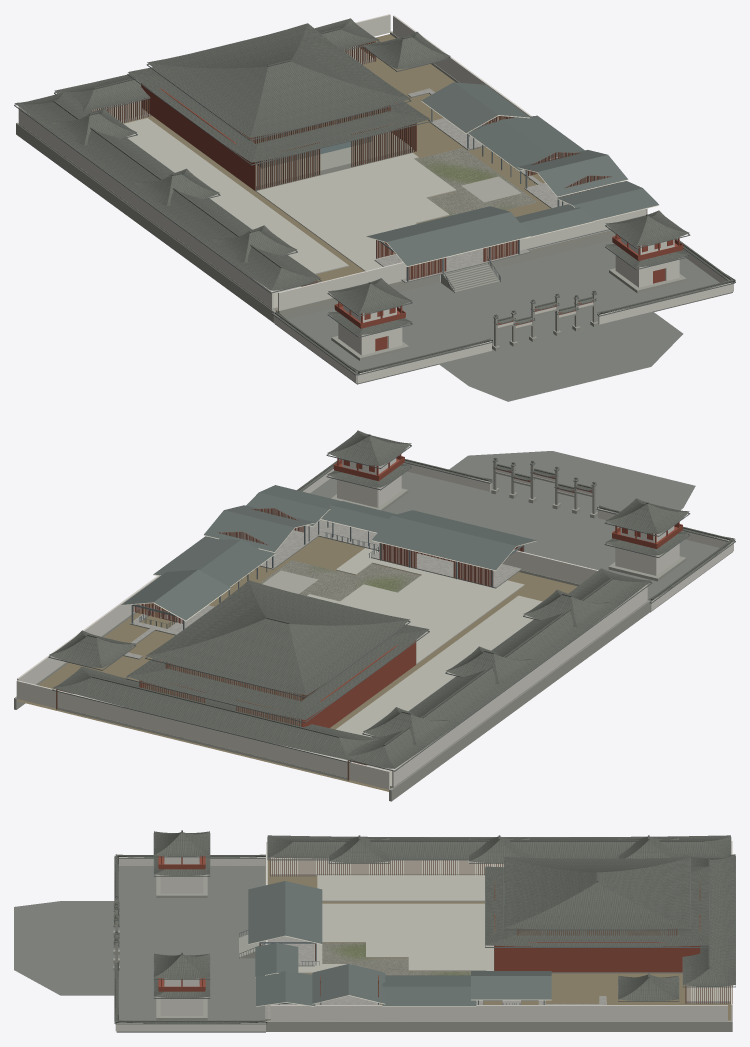
File: shangqing-court-route.glb
3 views of the same model, one above another, from view 1: azimuth 30°, elevation 25°; view 2: azimuth 150°, elevation 25°; view 3: azimuth 270°, elevation 25° (orthographic). The views are drawn at different scales.
Visible parts, largest first — view 1: Existing context - 1990s front court paving, Existing context - main hipped roof, Context court paving - exposed plan area removed, Existing context - south apron, Existing context - west exhibition gallery roof, Unmodelled archaeology and site datum, Existing context - main lower eaves, Existing context - west marking court, Existing context - gallery accent roof, Southern entrance pavilion roof, Existing context - outer white gallery wall, Existing context - south white gallery wall (+28 smaller); view 2: Existing context - main hipped roof, Existing context - 1990s front court paving, Existing context - west exhibition gallery roof, Existing context - north return gallery roof, Context court paving - exposed plan area removed, Unmodelled archaeology and site datum, Existing context - south apron, Existing context - main lower eaves, Existing context - north white gallery wall, Existing context - gallery accent roof, Existing context - west marking court, Existing context - outer white gallery wall (+29 smaller); view 3: Existing context - 1990s front court paving, Existing context - main hipped roof, Context court paving - exposed plan area removed, Existing context - south apron, Existing context - outer white gallery wall, Existing context - west exhibition gallery roof, Existing context - main lower eaves, Existing context - outer retaining wall, Existing context - main hall red side cladding, Existing context - gallery accent roof, Existing context - north return gallery roof, Existing context - west marking court (+32 smaller).
Part boxes in pixels (box(x1,y1,x2,y2)): Existing context - 1990s front court paving: box(275, 240, 732, 384); Existing context - main hipped roof: box(147, 23, 410, 137); Context court paving - exposed plan area removed: box(255, 153, 456, 271); Existing context - south apron: box(439, 311, 683, 401); Existing context - west exhibition gallery roof: box(14, 90, 320, 290); Unmodelled archaeology and site datum: box(123, 34, 612, 313); Existing context - main lower eaves: box(128, 67, 430, 162); Existing context - west marking court: box(123, 118, 348, 274); Existing context - gallery accent roof: box(50, 31, 450, 262); Southern entrance pavilion roof: box(366, 206, 530, 266); Existing context - outer white gallery wall: box(19, 15, 647, 309); Existing context - south white gallery wall: box(278, 209, 645, 310); Existing context - main hipped roof: box(146, 580, 409, 695); Existing context - 1990s front court paving: box(310, 471, 732, 612); Existing context - west exhibition gallery roof: box(344, 568, 651, 768); Existing context - north return gallery roof: box(52, 666, 378, 760); Context court paving - exposed plan area removed: box(307, 548, 524, 664); Unmodelled archaeology and site datum: box(17, 536, 577, 791); Existing context - south apron: box(449, 451, 695, 517); Existing context - main lower eaves: box(126, 624, 429, 720); Existing context - north white gallery wall: box(16, 680, 389, 789); Existing context - gallery accent roof: box(49, 589, 610, 744); Existing context - west marking court: box(336, 595, 542, 737); Existing context - outer white gallery wall: box(17, 575, 647, 787); Existing context - 1990s front court paving: box(116, 866, 265, 1032); Existing context - main hipped roof: box(504, 857, 690, 929); Context court paving - exposed plan area removed: box(298, 903, 493, 973); Existing context - south apron: box(14, 901, 115, 995); Existing context - outer white gallery wall: box(270, 1005, 727, 1021); Existing context - west exhibition gallery roof: box(267, 835, 730, 859); Existing context - main lower eaves: box(485, 866, 709, 946); Existing context - outer retaining wall: box(266, 857, 732, 1031); Existing context - main hall red side cladding: box(494, 942, 699, 972); Existing context - gallery accent roof: box(329, 836, 678, 1000); Existing context - north return gallery roof: box(683, 854, 735, 986); Existing context - west marking court: box(317, 875, 484, 901).
Bounding box in the file's own units: 85.49 × 17.3 × 155.
Materials: 19 (3 with a texture image).
